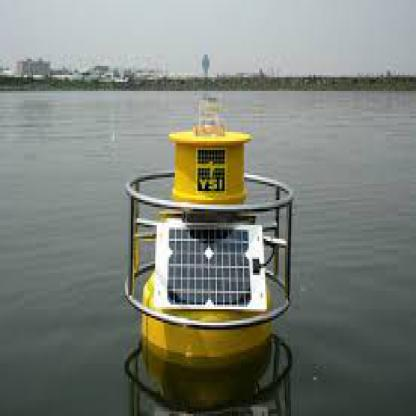buoy: (113, 84, 301, 368)
